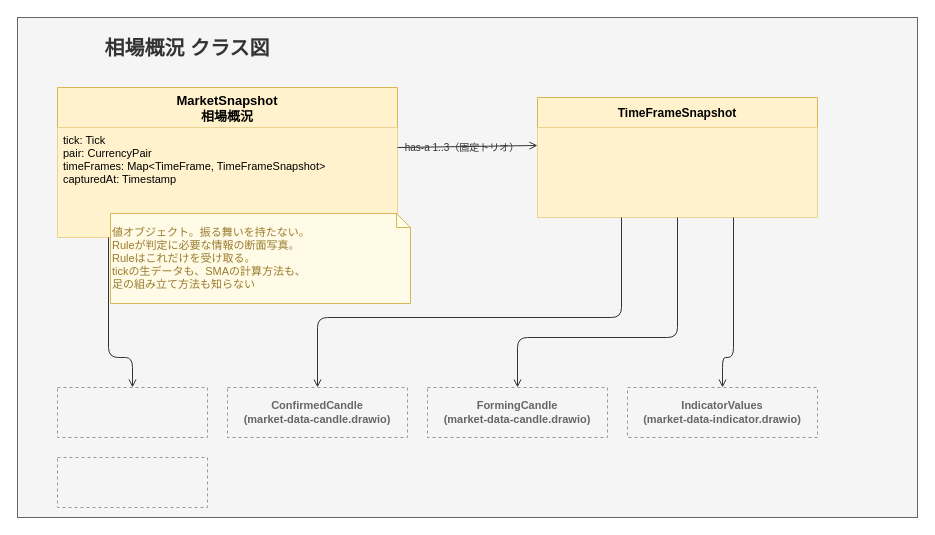
Some shapes in this 935 by 535 pixel diagram are drawn without their labels. The centre of each missing label's shape, as x and y in pixels:
"confirmed: ConfirmedCandle forming: FormingCandle indicators: IndicatorValues" belongs at pixel 677 172.
"CurrencyPair (action-layer.drawio)" belongs at pixel 132 482.
"Tick (market-data-candle.drawio)" belongs at pixel 132 412.
